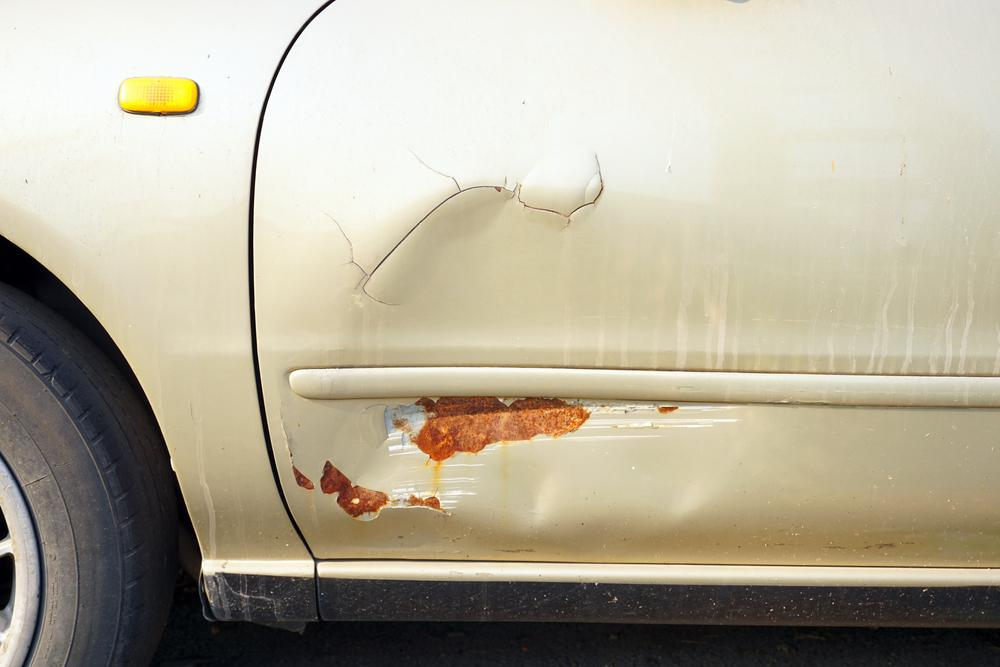dent: (301, 183, 742, 531)
